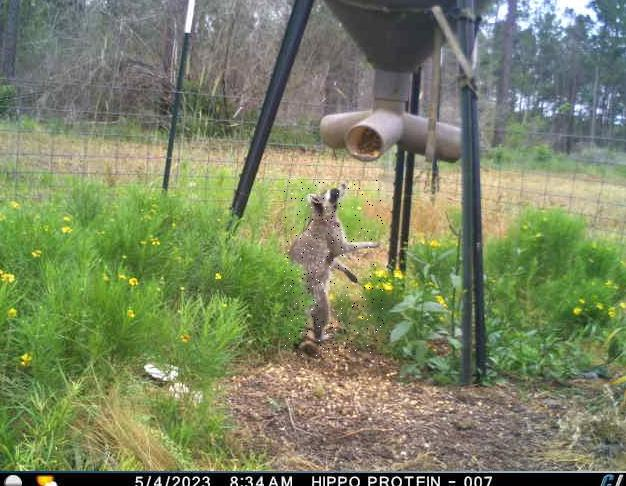Raccoon: (285, 180, 385, 357)
